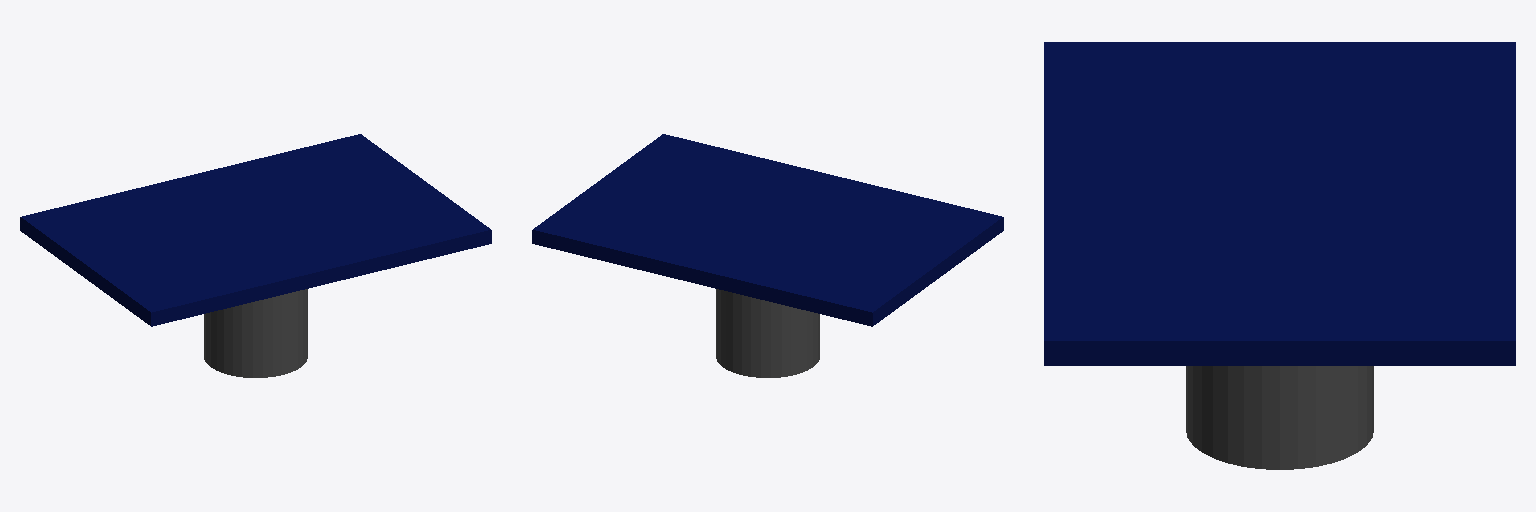
The robot description file, URDF, robot "solar_panel":
<?xml version="1.0"?>
<!--
  Solar Panel: single-link rigid body (static fixture on table).

  Geometry (in local frame, origin = base bottom center at table surface z=0):
    Base  : cylinder radius=0.04, height=0.10, center at z=0.05
            top of base at z=0.10
    Panel : flat box 0.30 × 0.20 × 0.012 (x × y × thickness)
            center at z = 0.10 + 0.006 = 0.106
            top surface at z = 0.112

  Placement in _initialize_episode:
    panel_p[:, 2] = 0.0  → base bottom sits flush on table surface.

  Contact reference (used in Python):
    PANEL_TOP_Z_OFFSET = 0.112   (from origin to top surface)
    PANEL_HALF_X       = 0.15    (half width)
    PANEL_HALF_Y       = 0.10    (half depth)
-->
<robot name="solar_panel">
  <link name="base_link">
    <inertial>
      <!-- Combined CoM: 0.8 kg cylinder at z=0.05 + 0.2 kg plate at z=0.106 → z≈0.061 -->
      <origin xyz="0 0 0.061" rpy="0 0 0"/>
      <mass value="1.0"/>
      <inertia ixx="4.0e-03" ixy="0" ixz="0"
               iyy="5.0e-03" iyz="0"
               izz="3.0e-03"/>
    </inertial>

    <!-- Cylindrical base -->
    <visual>
      <origin xyz="0 0 0.05" rpy="0 0 0"/>
      <geometry>
        <cylinder radius="0.04" length="0.10"/>
      </geometry>
      <material name="base_gray">
        <color rgba="0.35 0.35 0.35 1.0"/>
      </material>
    </visual>
    <collision>
      <origin xyz="0 0 0.05" rpy="0 0 0"/>
      <geometry>
        <cylinder radius="0.04" length="0.10"/>
      </geometry>
    </collision>

    <!-- Solar panel plate (flat, no tilt for clean contact geometry) -->
    <visual>
      <origin xyz="0 0 0.106" rpy="0 0 0"/>
      <geometry>
        <box size="0.30 0.20 0.012"/>
      </geometry>
      <material name="panel_blue">
        <color rgba="0.05 0.10 0.35 1.0"/>
      </material>
    </visual>
    <collision>
      <origin xyz="0 0 0.106" rpy="0 0 0"/>
      <geometry>
        <box size="0.30 0.20 0.012"/>
      </geometry>
    </collision>
  </link>
</robot>

--- Render facts (derived) ---
3 views of the same robot in one strip: view 1: azimuth 30°, elevation 25°; view 2: azimuth 150°, elevation 25°; view 3: azimuth 270°, elevation 25° (orthographic).
Model solar_panel with 1 links and 0 joints (none), rooted at base_link, posed all joints at 0.
Visible links, largest first — view 1: base_link; view 2: base_link; view 3: base_link.
Link boxes in pixels (x1,y1,x2,y2): base_link: (20, 134, 491, 377); base_link: (532, 134, 1003, 377); base_link: (1044, 42, 1515, 469).
Size in the robot's own frame: 0.3 by 0.2 by 0.112 metres.
Geometry: primitives only (box / cylinder / sphere), no mesh files.
